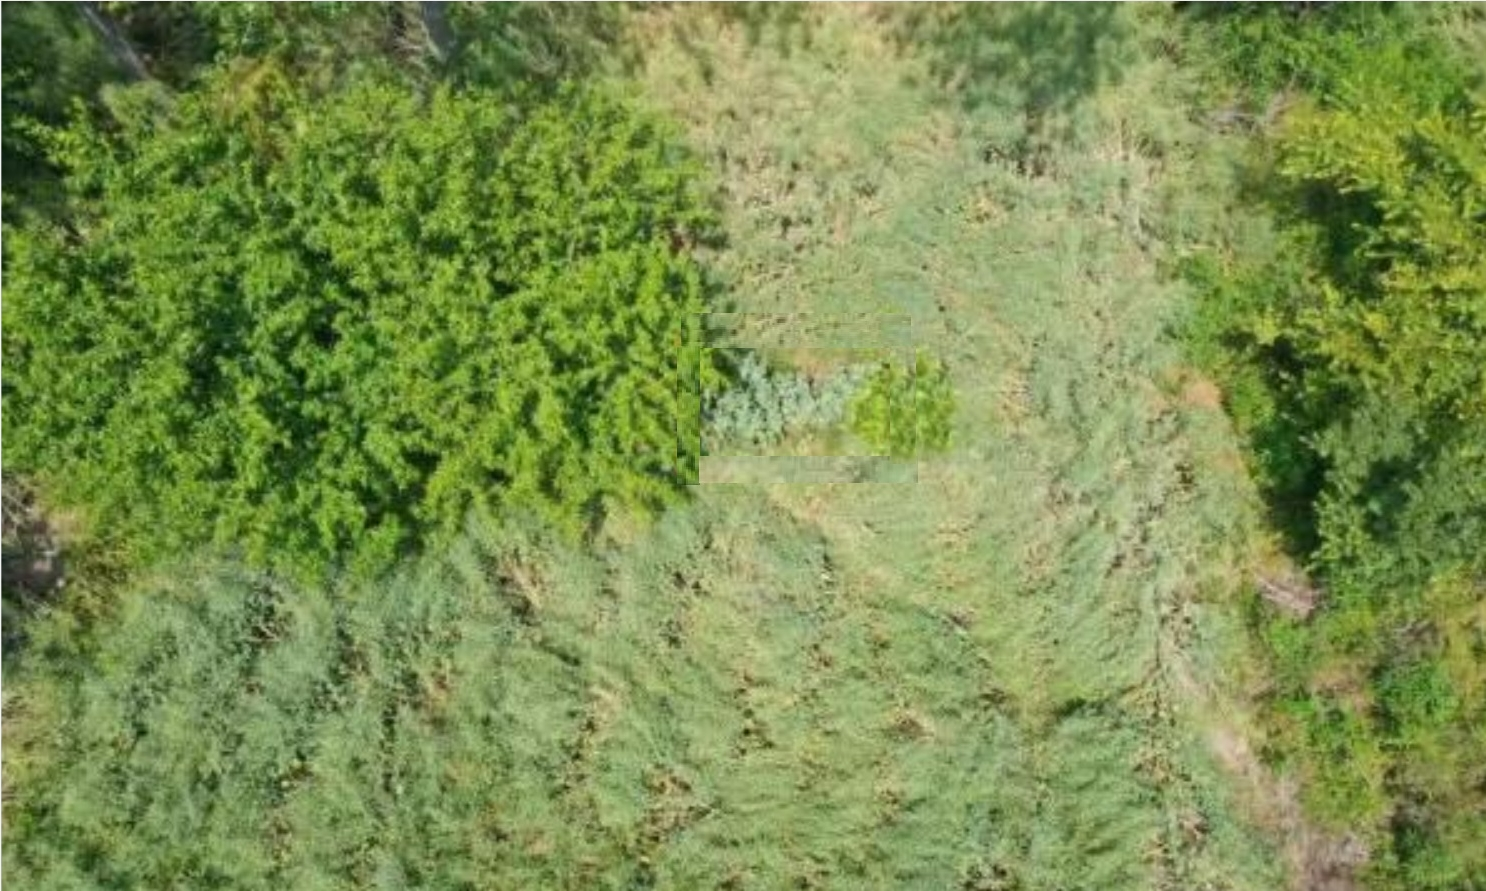Poppy: (709, 349, 876, 449)
